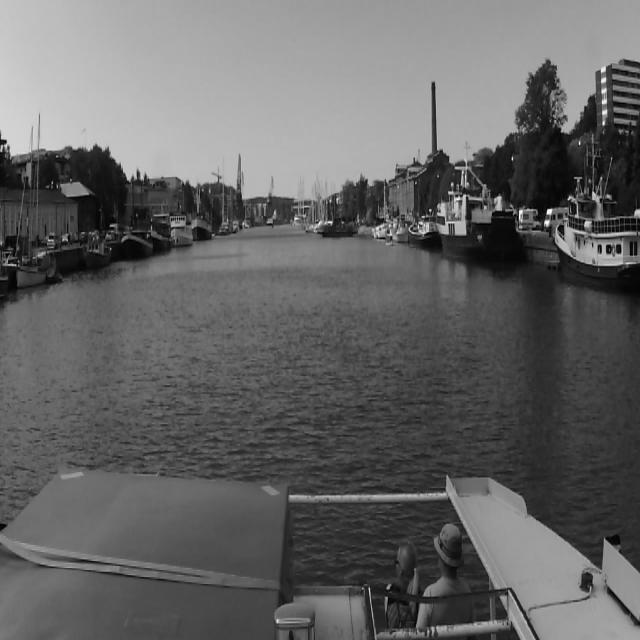ship: (432, 148, 522, 266), (556, 177, 635, 287), (14, 115, 58, 287), (317, 213, 360, 242), (410, 212, 438, 250), (372, 178, 390, 236), (121, 228, 153, 258), (292, 174, 308, 228), (170, 209, 192, 246), (84, 236, 111, 266), (218, 154, 228, 234), (192, 214, 213, 242), (394, 215, 410, 245), (155, 221, 171, 250), (231, 215, 241, 234)
